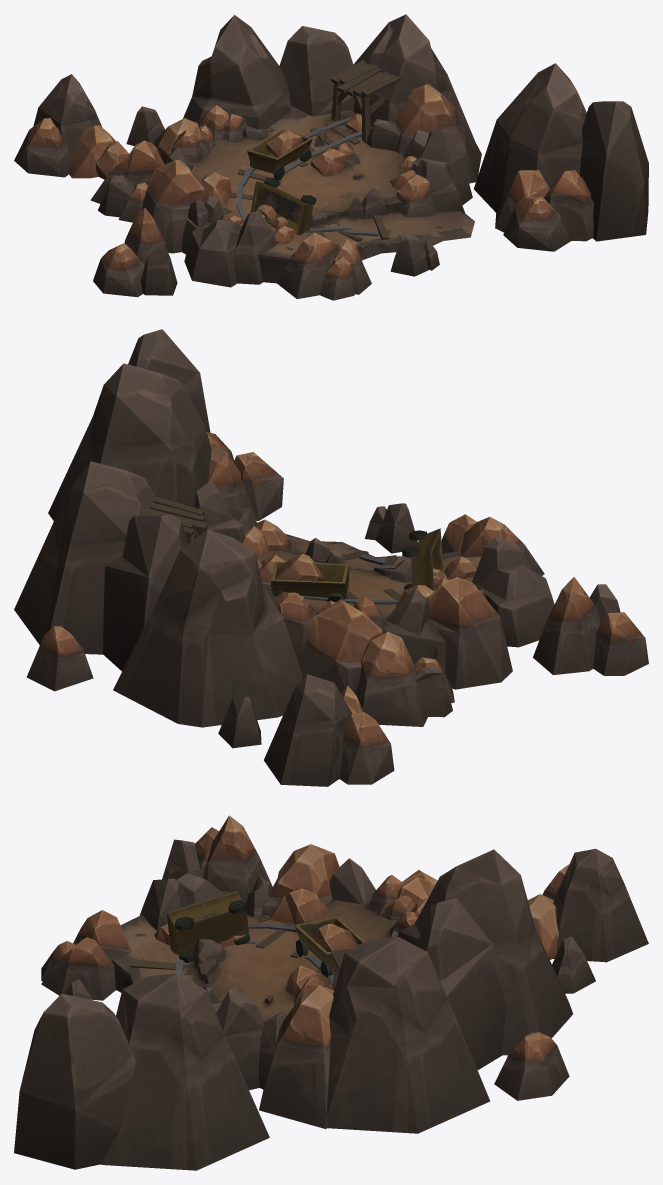
The model's file is WMCopper3.FBX.
3 views of the same model, one above another, from view 1: azimuth 30°, elevation 25°; view 2: azimuth 150°, elevation 25°; view 3: azimuth 270°, elevation 25° (orthographic). The views are drawn at different scales.
Parts seen in each view (by area): view 1: WMCopper3; view 2: WMCopper3; view 3: WMCopper3.
Part boxes in pixels (x1,y1,x2,y2): WMCopper3: (14,14,648,300); WMCopper3: (14,329,648,786); WMCopper3: (14,815,648,1170).
Size of the model in its own units: 2.04 by 0.5332 by 1.8.
Materials: 1 (1 with a texture image).
